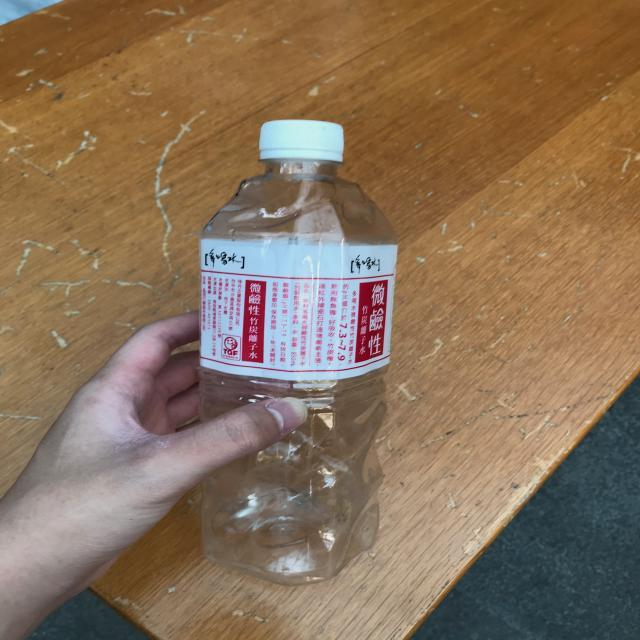plastic_bottle: (202, 120, 399, 585)
